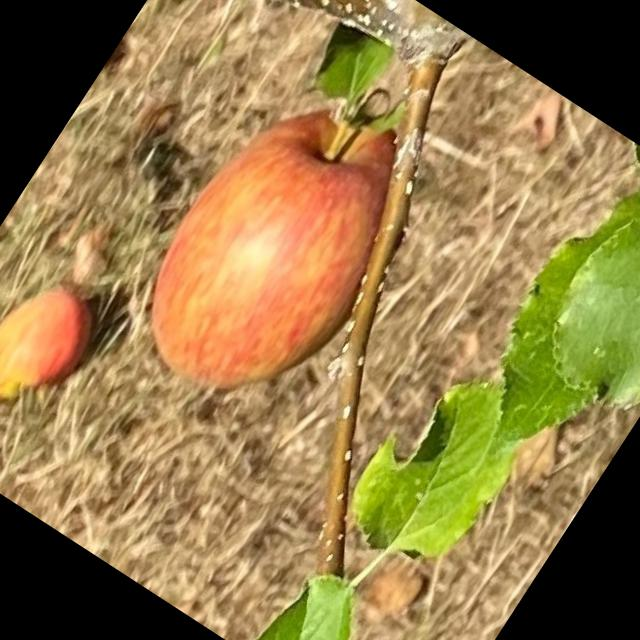Apples: (112, 63, 450, 437), (0, 262, 112, 424)
